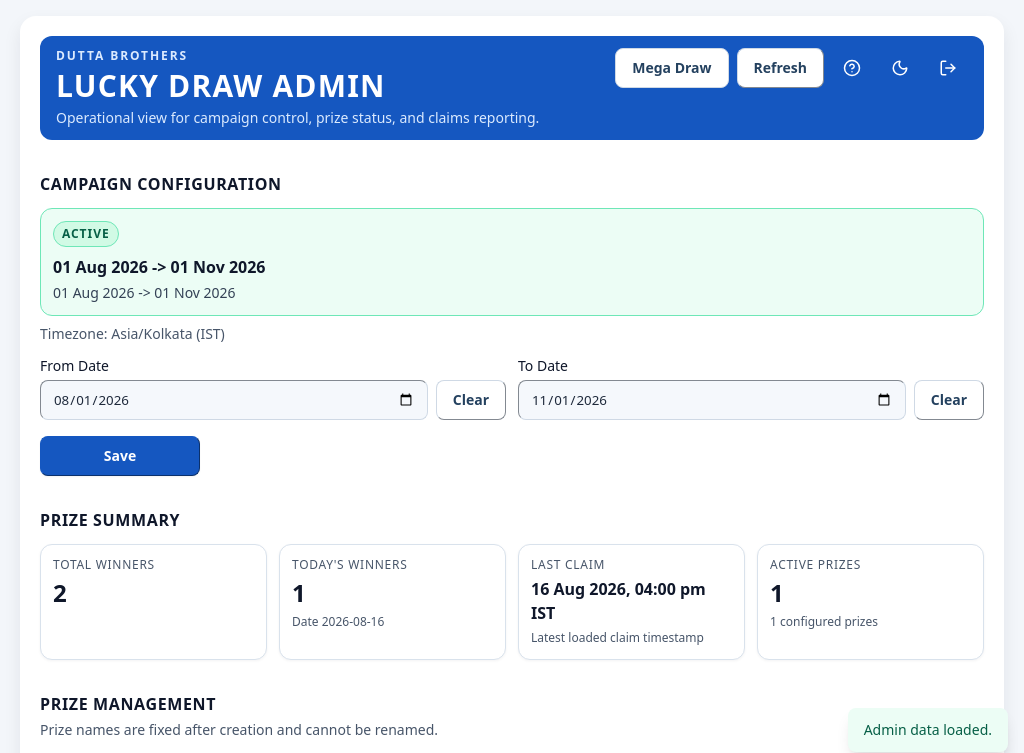
Test case: admin operations page › supports theme toggle and renders dark-theme controls
Expected: the heading "Lucky Draw Admin" is shown, [56,65,386,106]
Click the button named "Switch to Dark" at (900, 68), box [880,48,920,88]
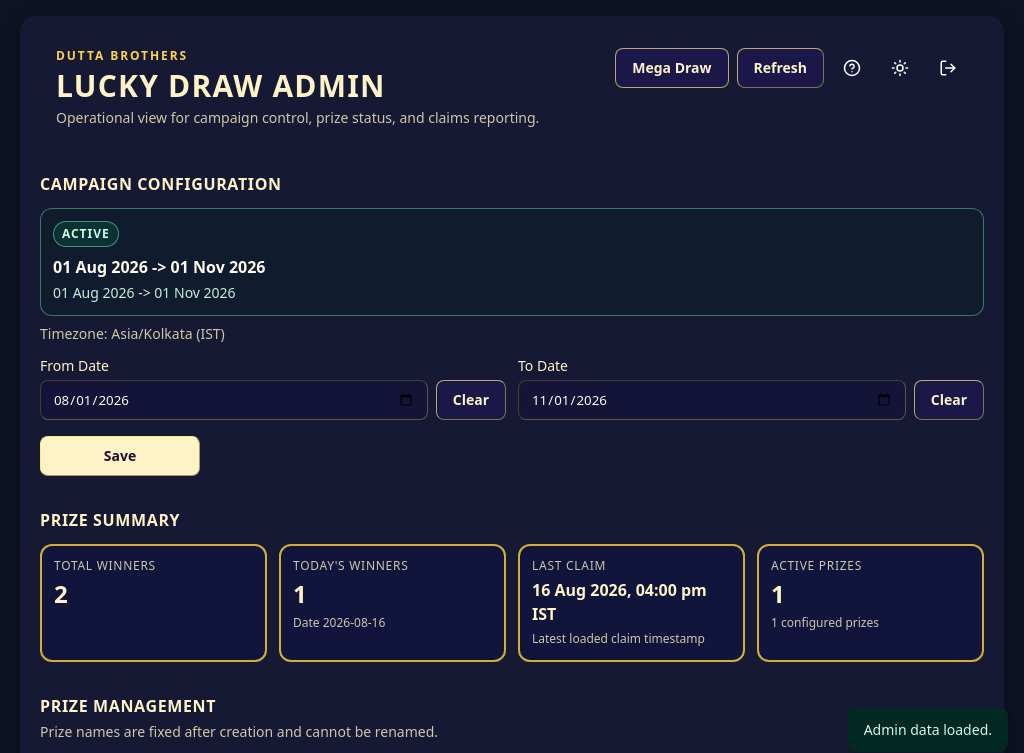
Now the button named "Switch to Light" is shown, box [880,48,920,88]
